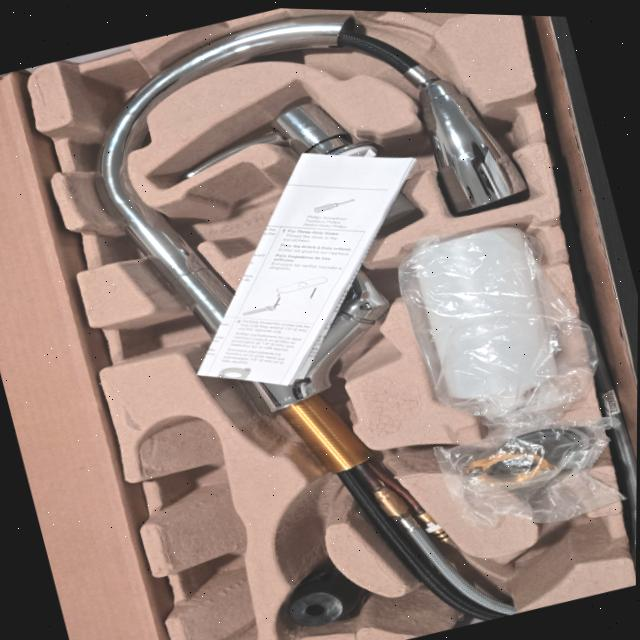1o: (89, 14, 529, 620)
2o: (187, 99, 414, 228)
3: (408, 227, 558, 433)
4m: (135, 413, 258, 640)
5: (283, 567, 369, 626)
6: (426, 413, 626, 530)
7m: (505, 497, 609, 592)
8: (192, 153, 417, 386)
